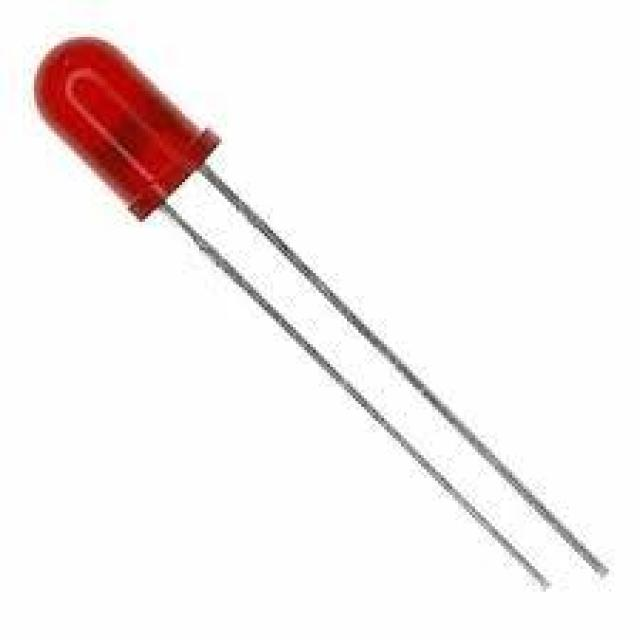Led: (35, 39, 585, 556)
